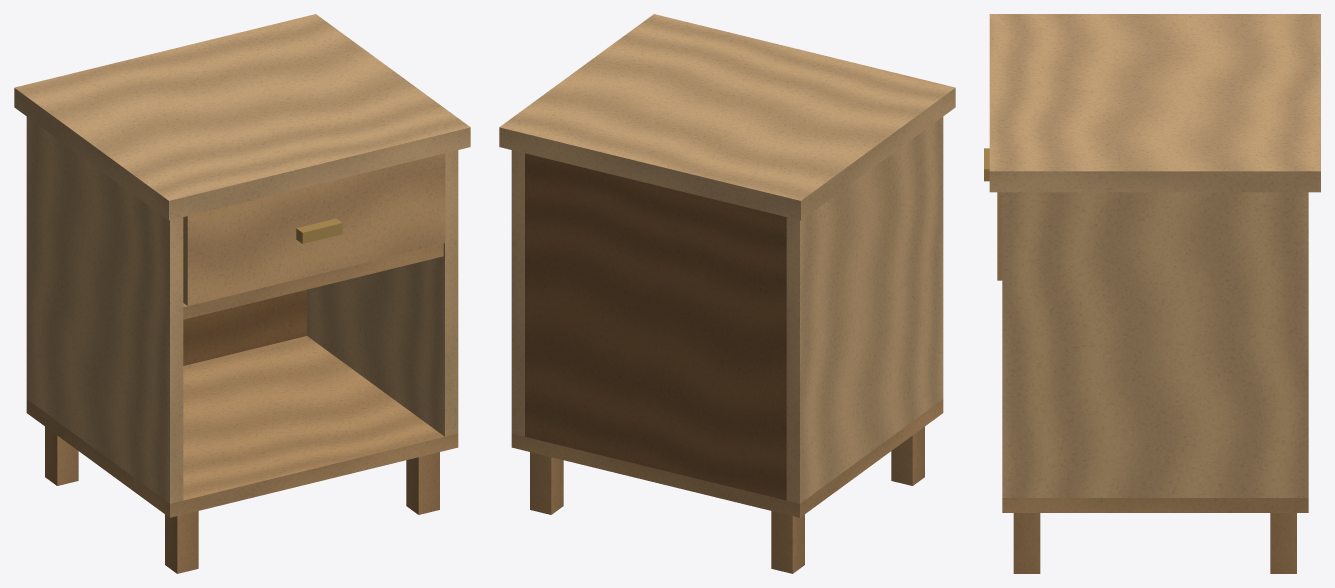
File: bedside_table.glb
3 renders of one model, left to right at view 1: azimuth 30°, elevation 25°; view 2: azimuth 150°, elevation 25°; view 3: azimuth 270°, elevation 25°, orthographic. The views are drawn at different scales.
Parts seen in each view (by area): view 1: bedside_table; view 2: bedside_table; view 3: bedside_table.
Boxes of the visible parts, <box> form: bedside_table: <box>14,14,470,573</box>; bedside_table: <box>499,14,955,573</box>; bedside_table: <box>984,14,1320,573</box>.
Bounding box in the file's own units: 0.45 × 0.55 × 0.407.
Materials: 2 (1 with a texture image).
